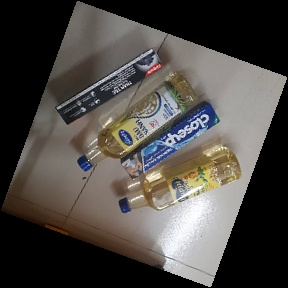CloseUp Tuyet: (121, 101, 221, 181)
Colgate Than: (54, 48, 164, 124)
Happy Soya: (119, 145, 241, 216)
Simply: (77, 70, 199, 171)
